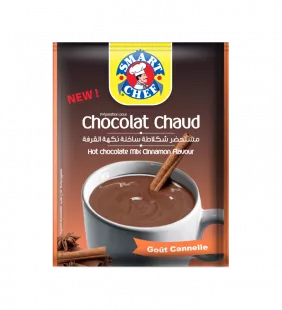SMART CHEF: (44, 36, 236, 276)
